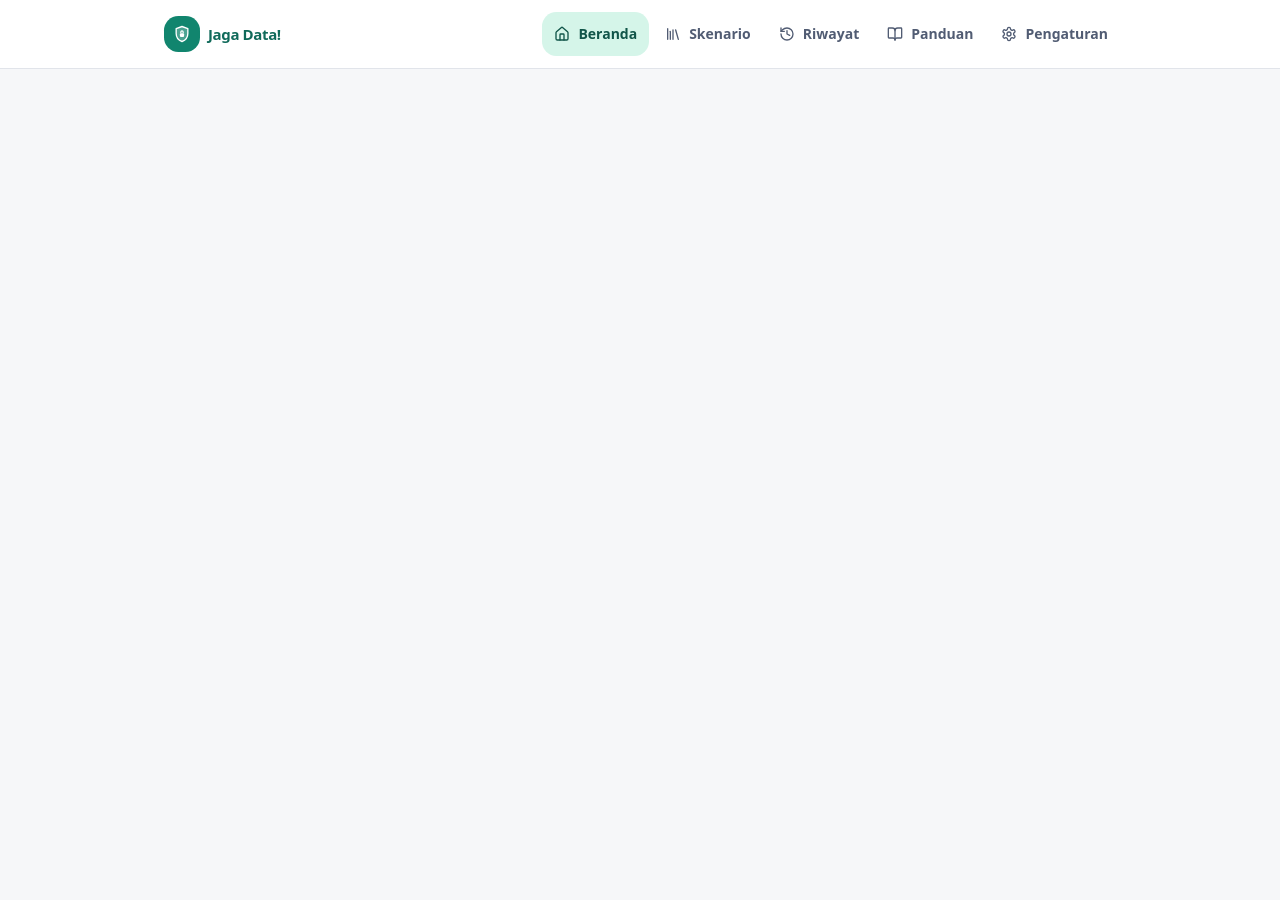
it: Header › tombol Pengaturan punya aria-label dan membuka dialog berisi formulir
The width and height of the screenshot is (1280, 900).
Click the button "Pengaturan".
click(1055, 34)  # box [989,12,1120,56]
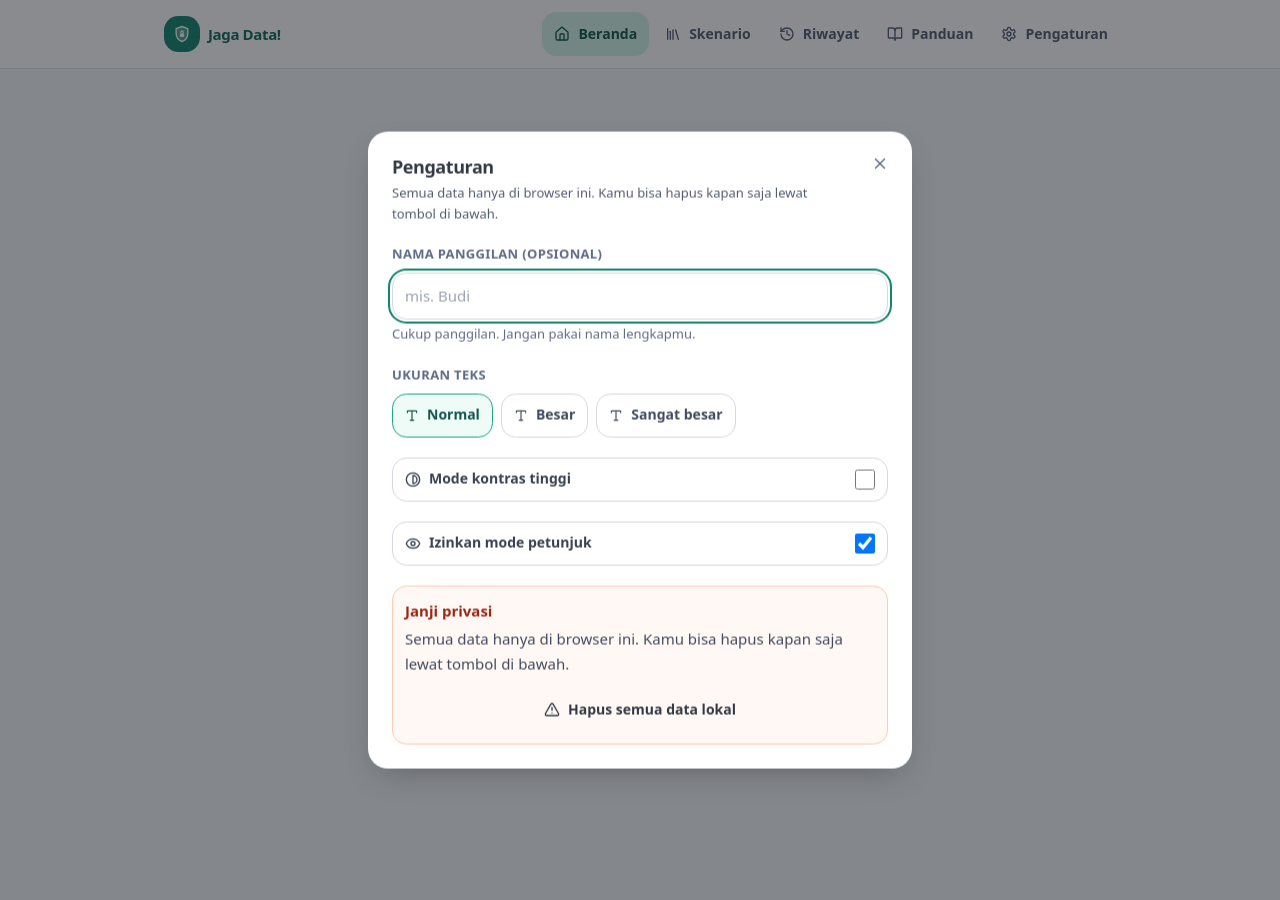
Now the field labelled "Nama panggilan (opsional)" is shown, box [392,273,888,319]
